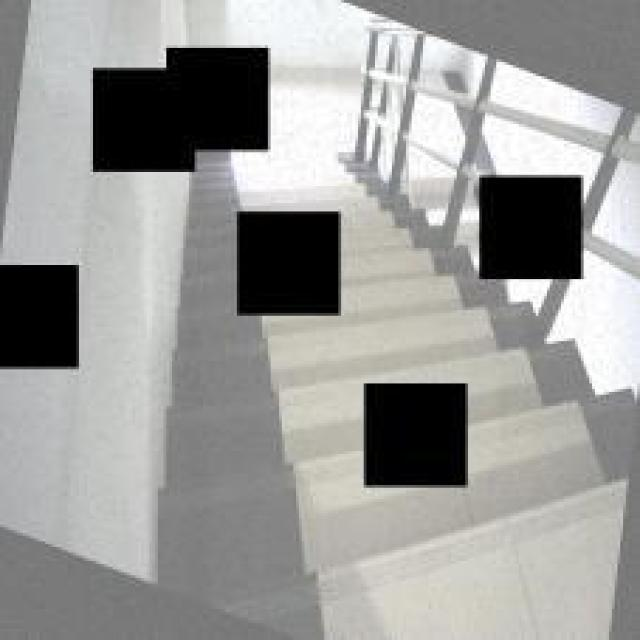downstair: (173, 345, 365, 638)
